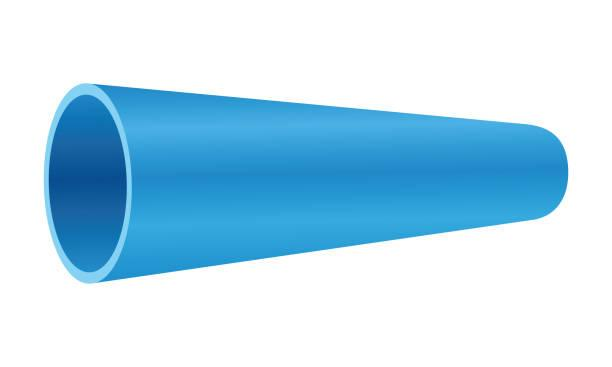PVC: (18, 42, 612, 345)
